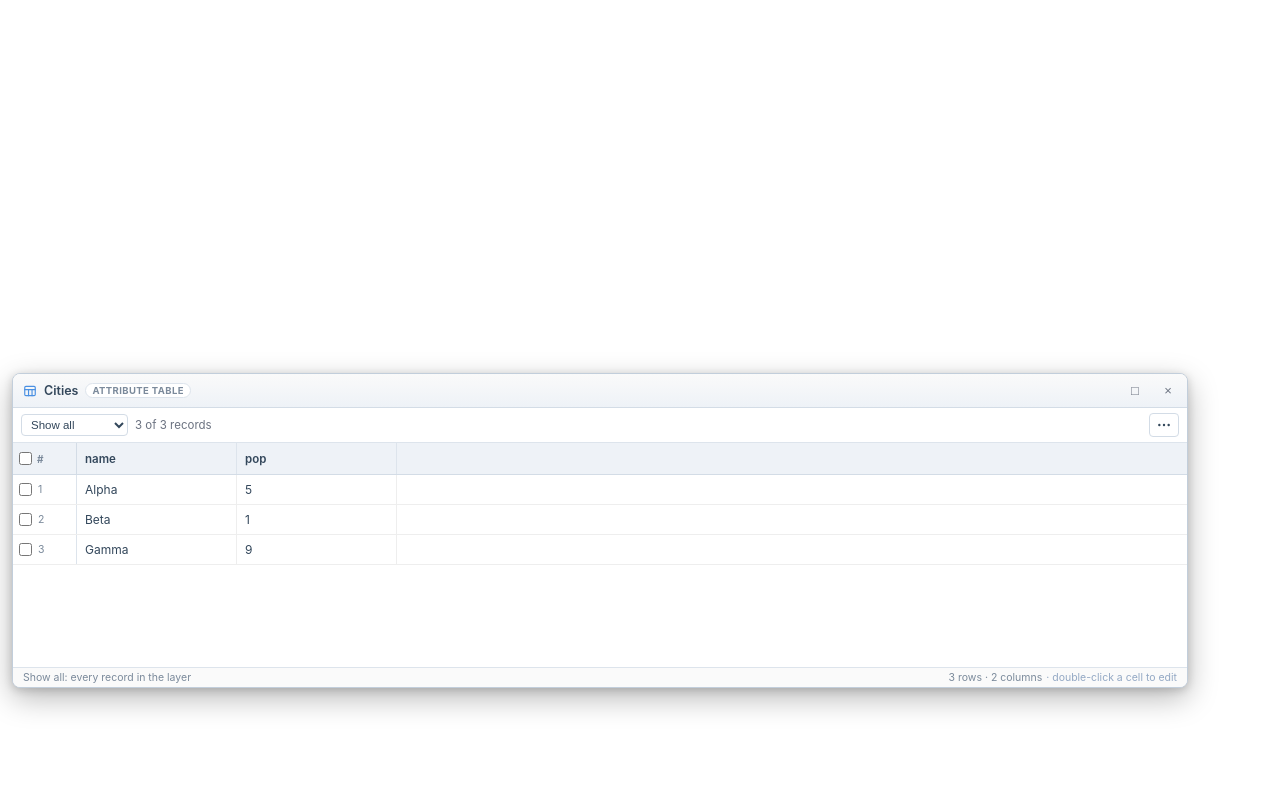
AttributeTableWindow › edits a cell in place and writes through to the feature
Double-click the text "Alpha" at (157, 490), box 77,475 -> 237,504
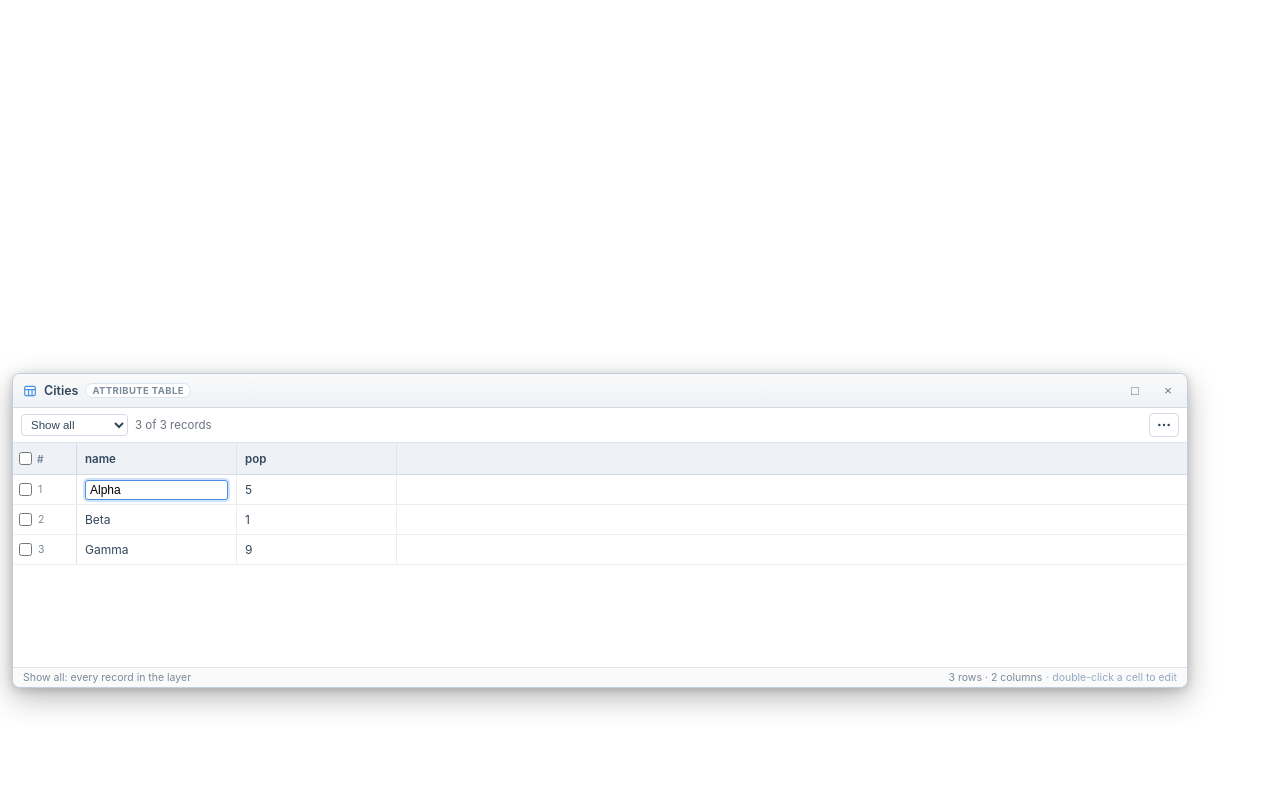
Expected: the field with class "attr-table-cell-input" is shown
Replace the text in the field with class "attr-table-cell-input" with "Alpha Prime". click: (156, 490)
box: 85,480 -> 228,500
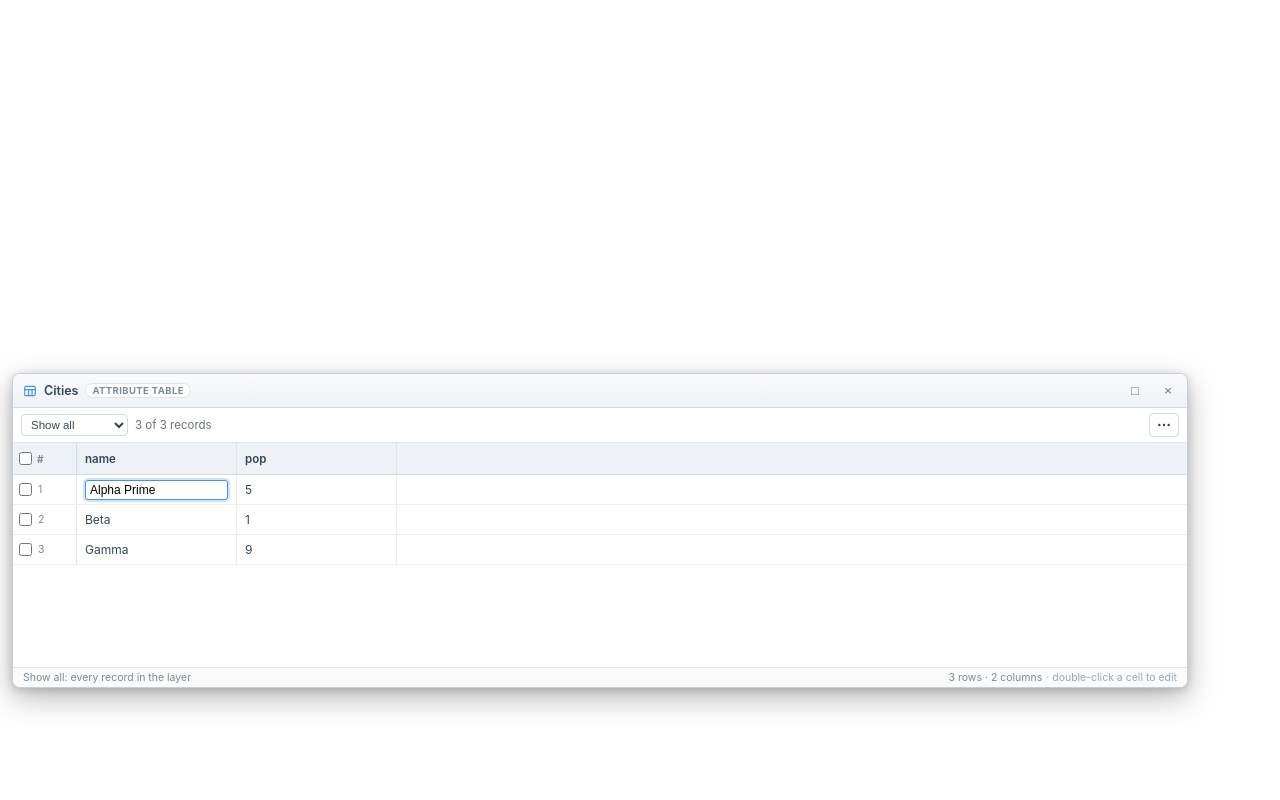
Press Enter in the field with class "attr-table-cell-input", box 85,480 -> 228,500
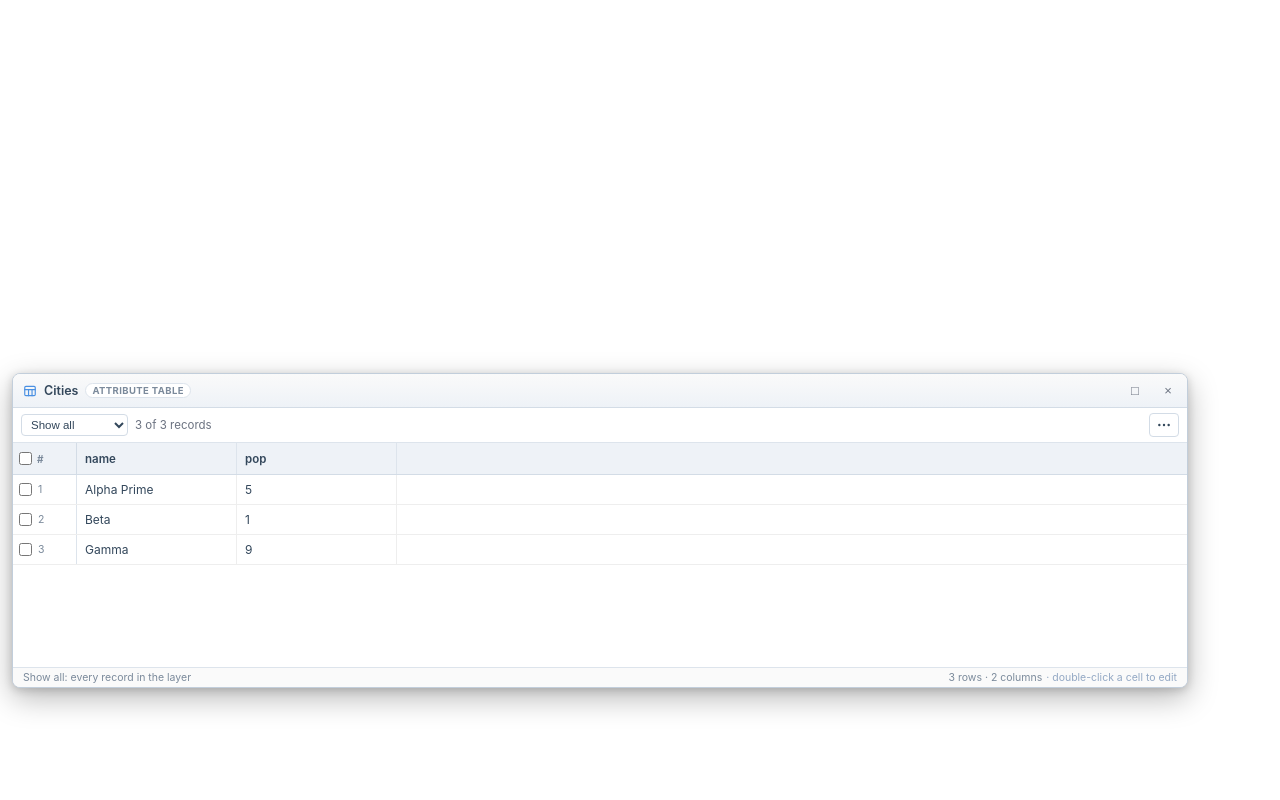
Expected: the text "Alpha" reads "Alpha Prime", 85,482 -> 154,497
